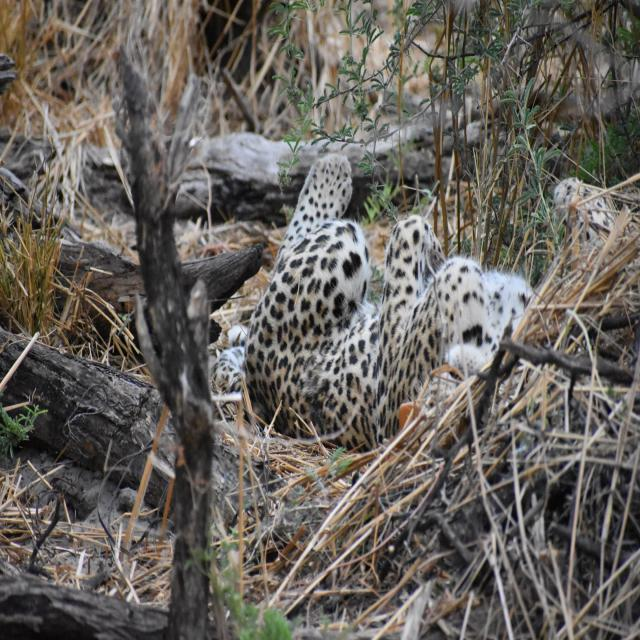Leopard: (224, 164, 534, 440)
